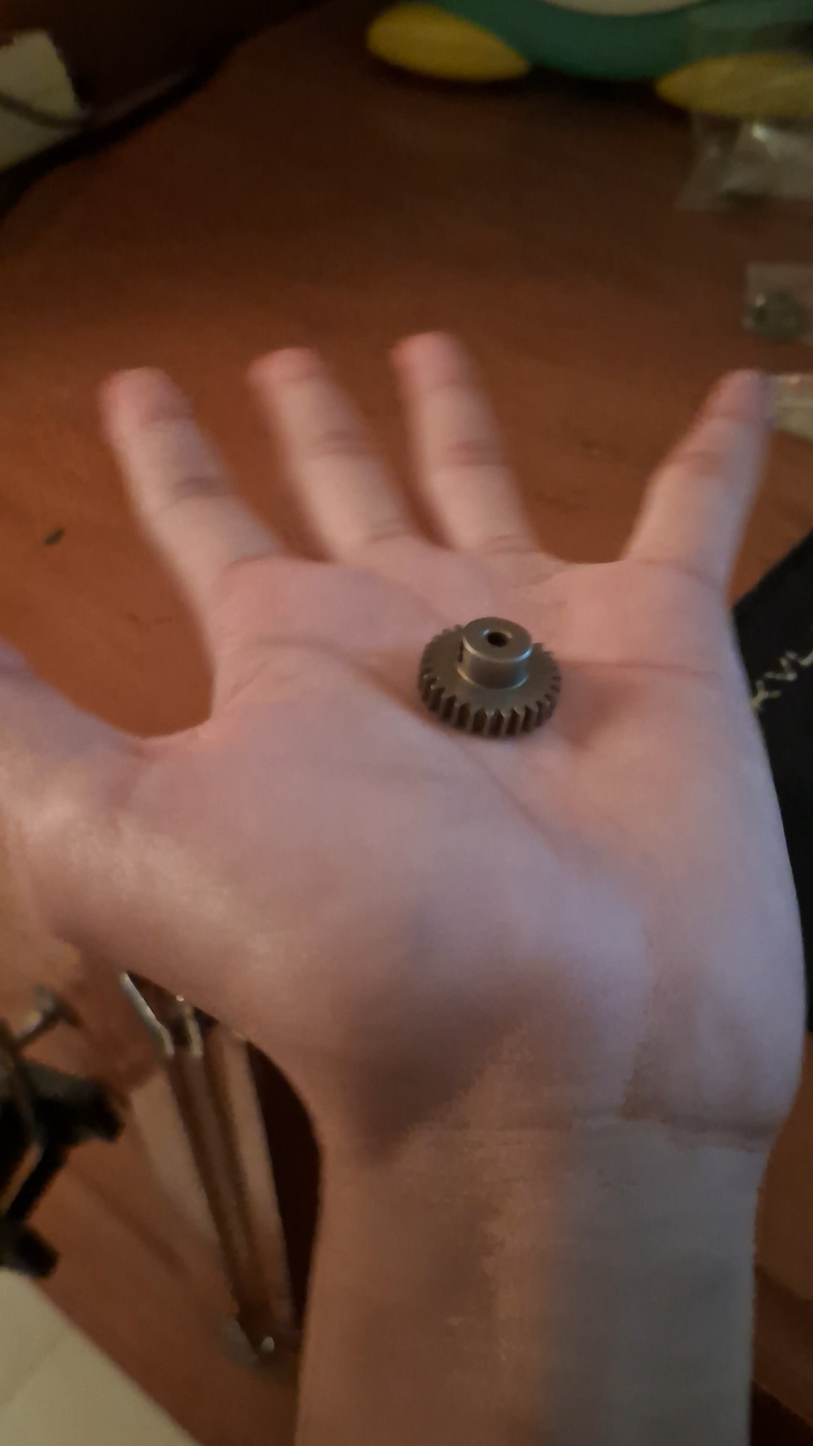spur gear: (417, 616, 560, 738)
